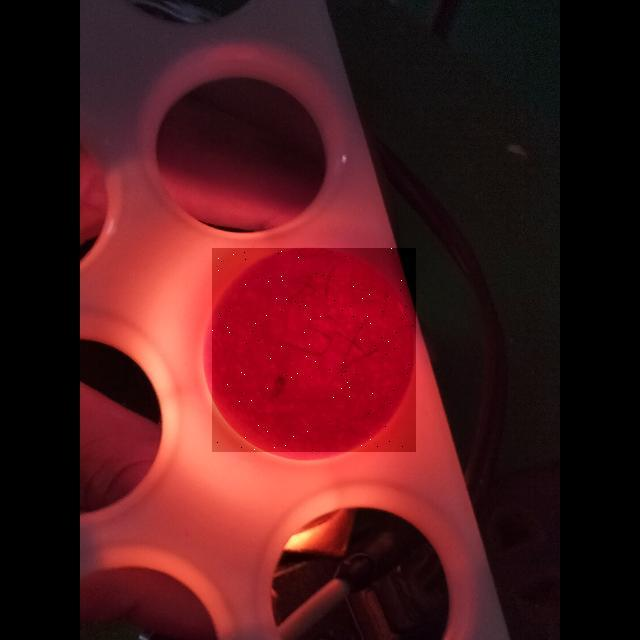Infertile: (212, 248, 416, 452)
